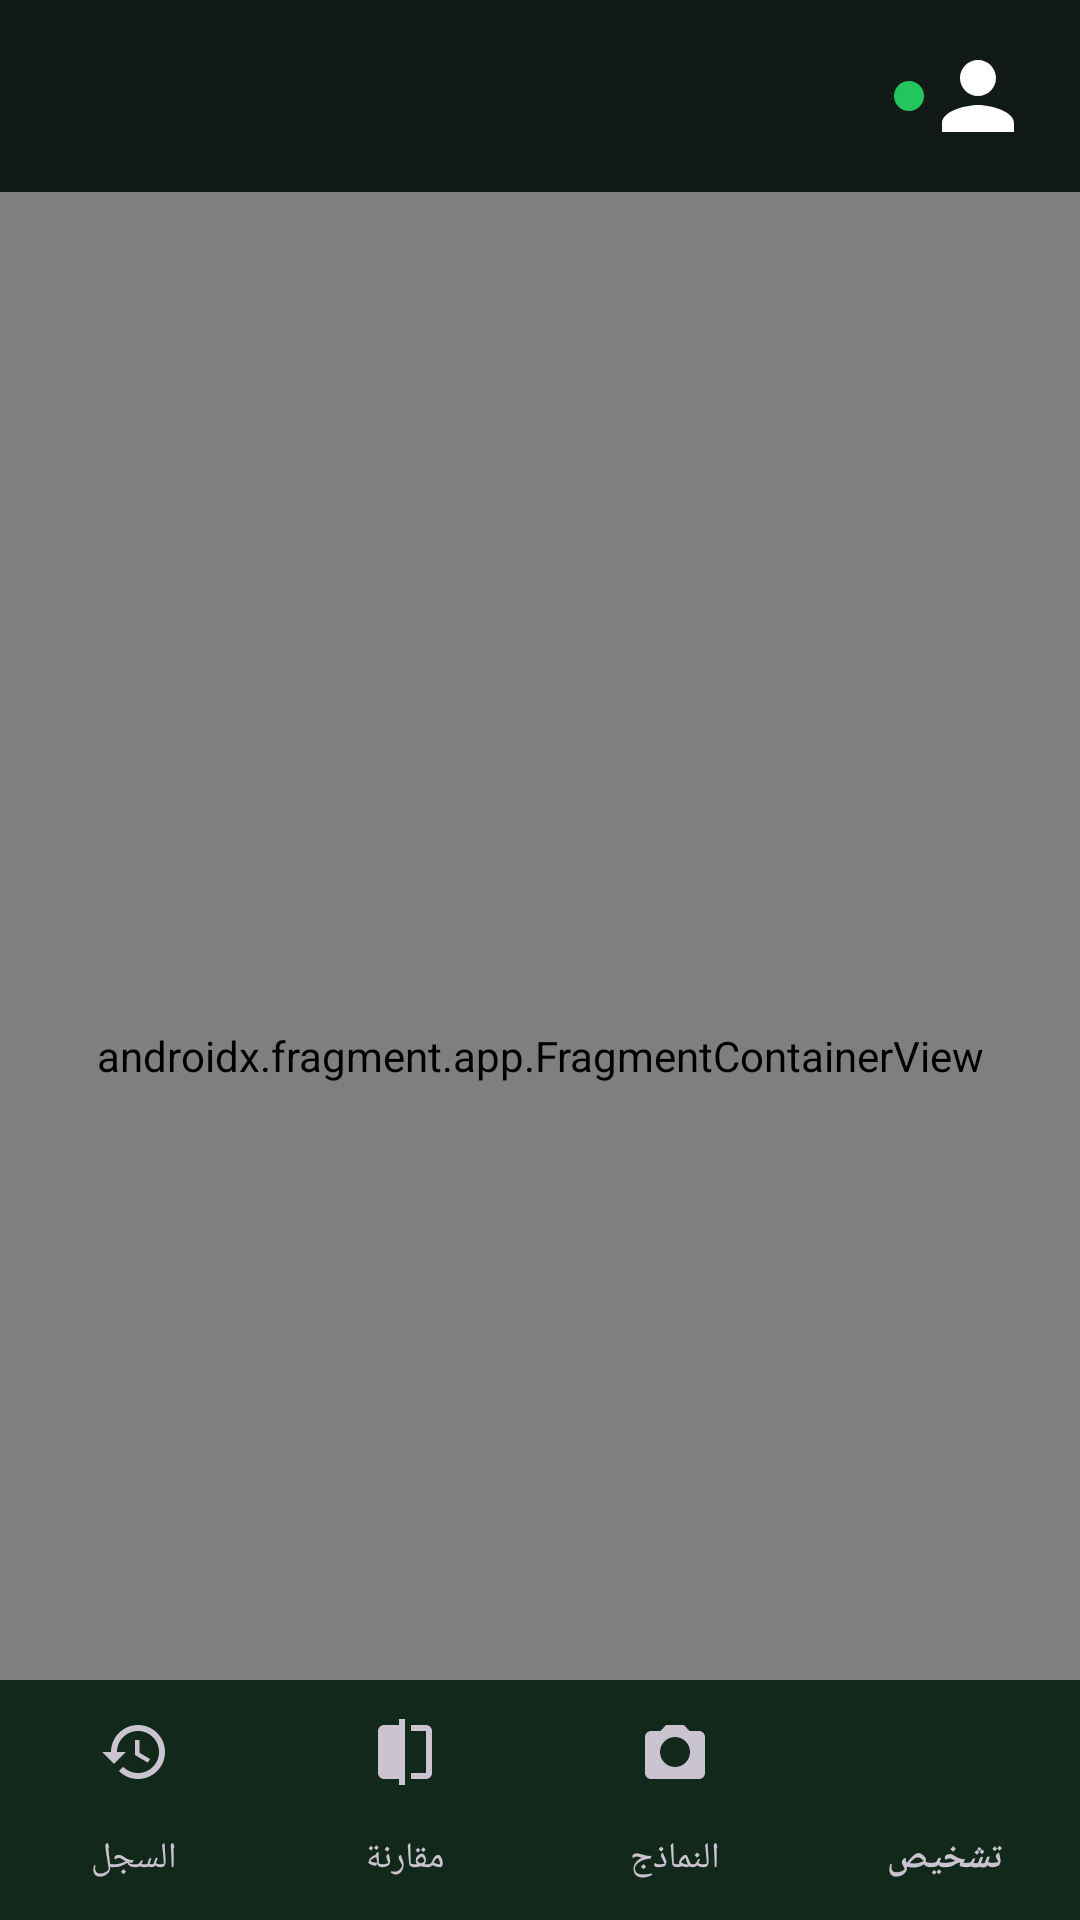

Where to tap for icons on this 1080px×1920px app screen, as (x,y):
person: (978,96)
